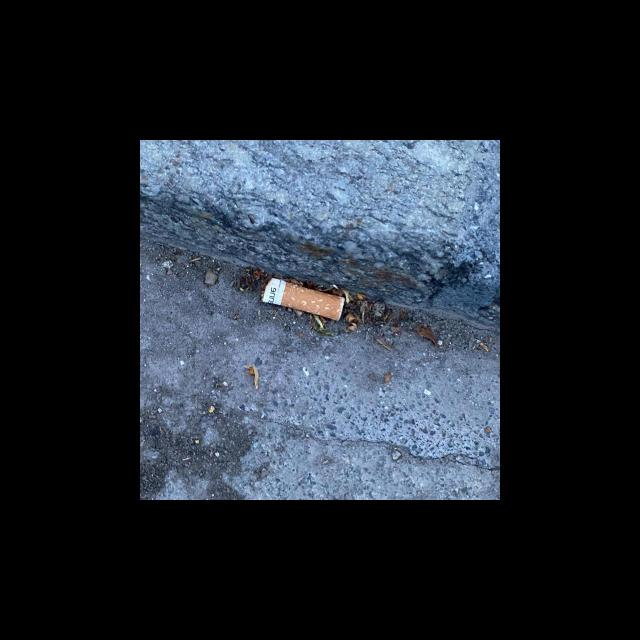cigarette: (260, 277, 345, 321)
